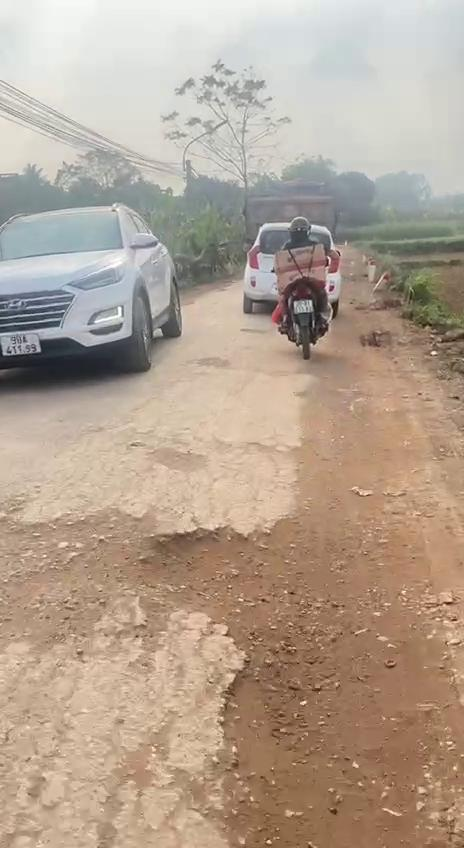pothole: (216, 648, 464, 848), (0, 502, 342, 646), (142, 439, 212, 481), (198, 351, 229, 372)
